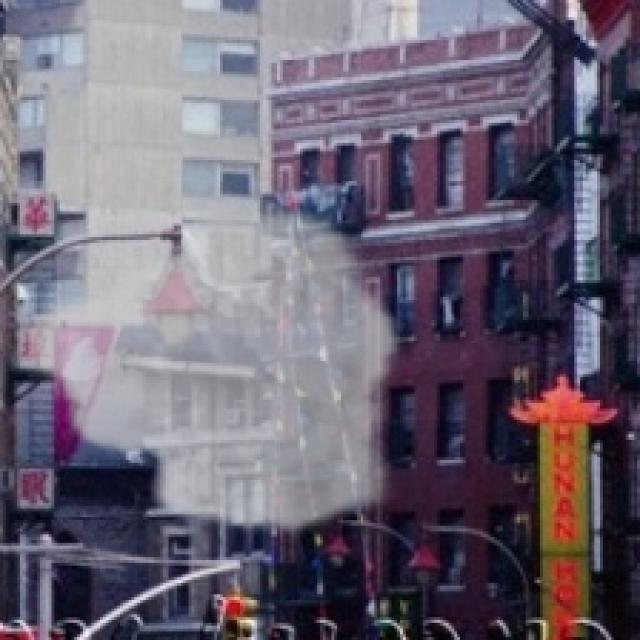smoke: (14, 194, 406, 540)
